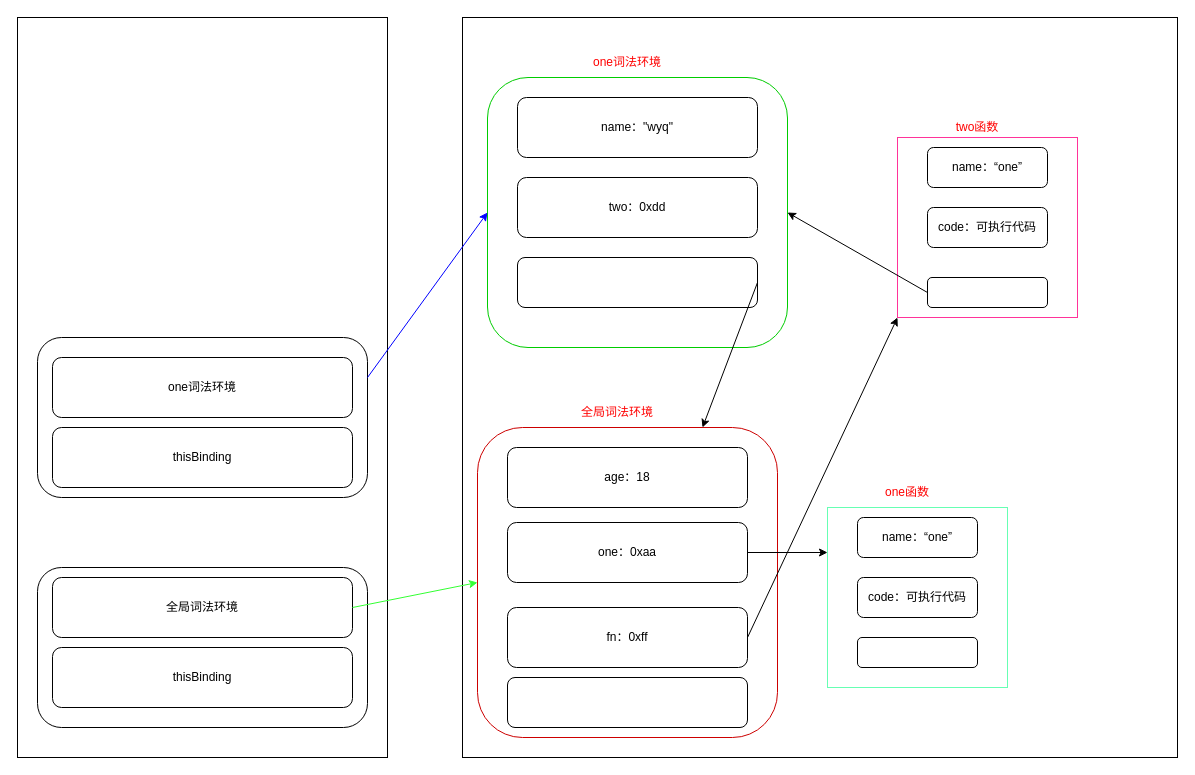
This 1195x775 diagram has some shape labels left out. The centre of each missing label's shape, as x and y in pixels:
"outer：0xbb" goes at (627,702).
"outer：0xcc" goes at (637,282).
"scope: 0xcc" goes at (917,652).
"scope: 0xee" goes at (987,292).
